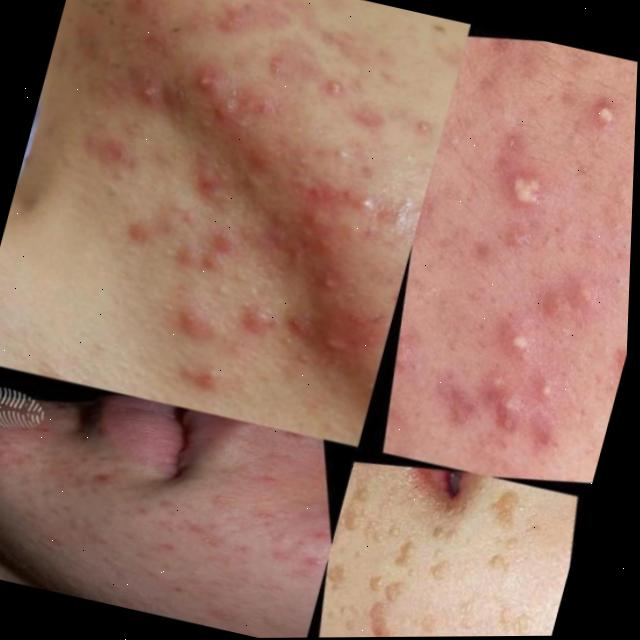Acne: (10, 0, 466, 428), (391, 54, 638, 453), (0, 387, 355, 640)
